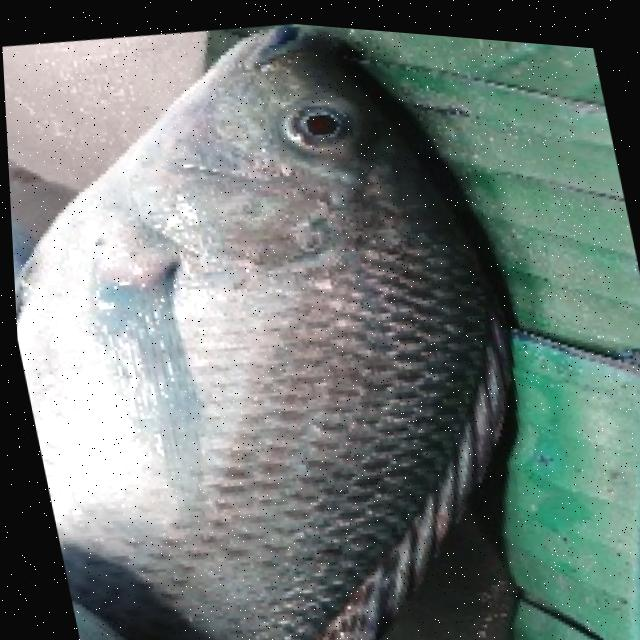Fresh: (15, 1, 536, 640)
